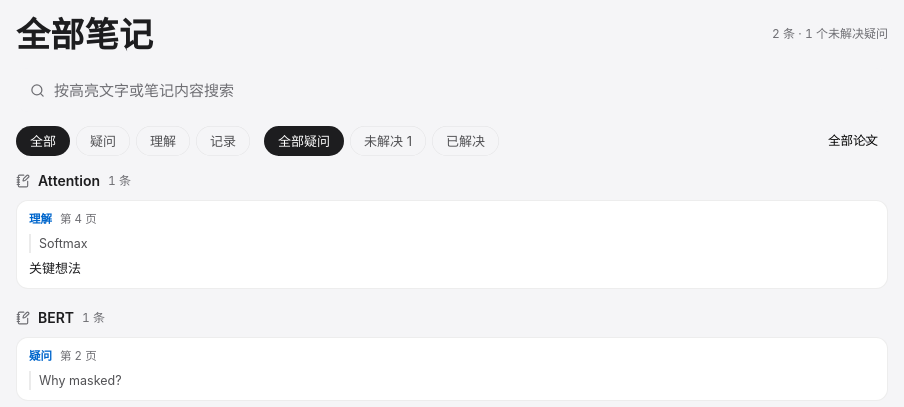
NotesView › says so when filters match nothing
The width and height of the screenshot is (904, 407).
Step 1. Type "nothing here" into the search field named "搜索笔记" → [464, 90], box [53, 68, 874, 112]
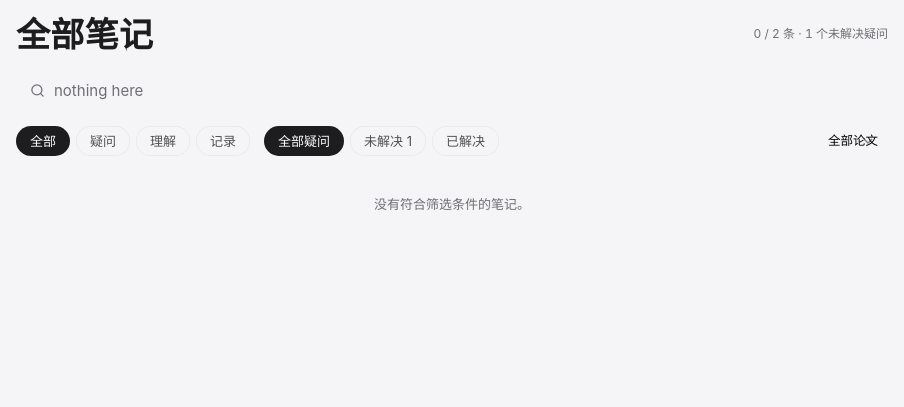
Check: the text "没有符合筛选条件的笔记。" is shown, box [374, 196, 530, 212]
